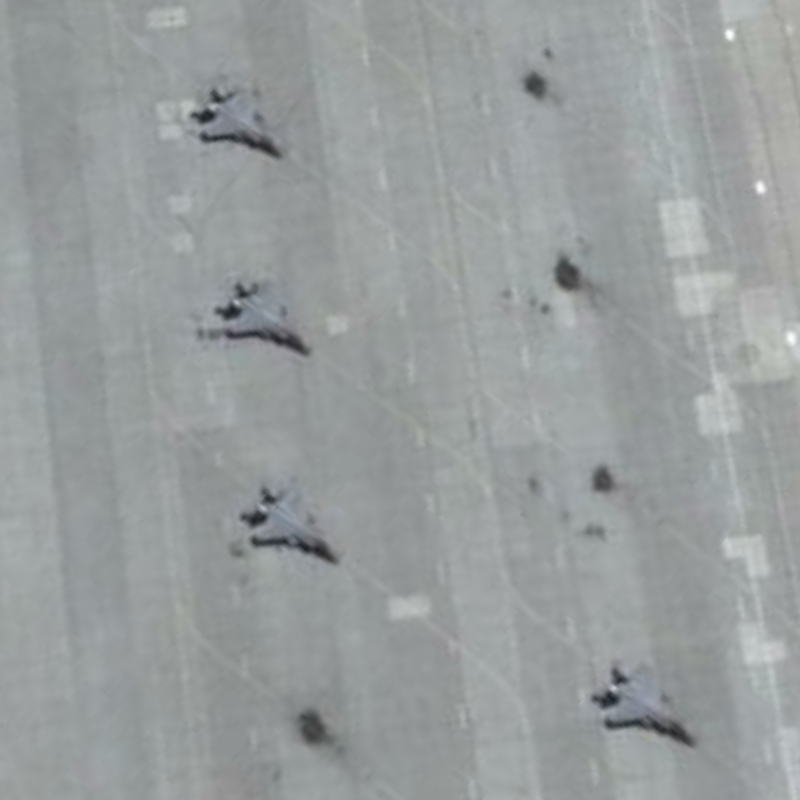A13: (583, 650, 710, 755), (213, 257, 320, 371), (236, 470, 345, 573), (185, 72, 294, 170)
